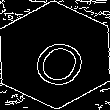O_NE: (20, 22, 90, 88)
